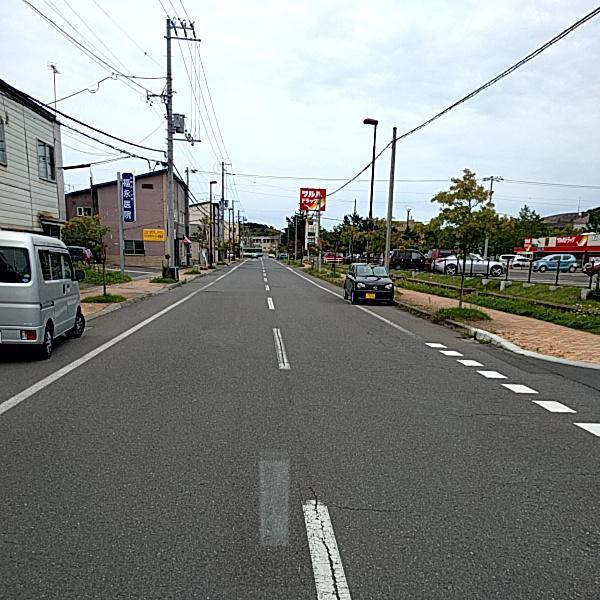D10: (315, 497, 406, 515), (447, 404, 526, 419)
D44: (289, 493, 356, 599)
